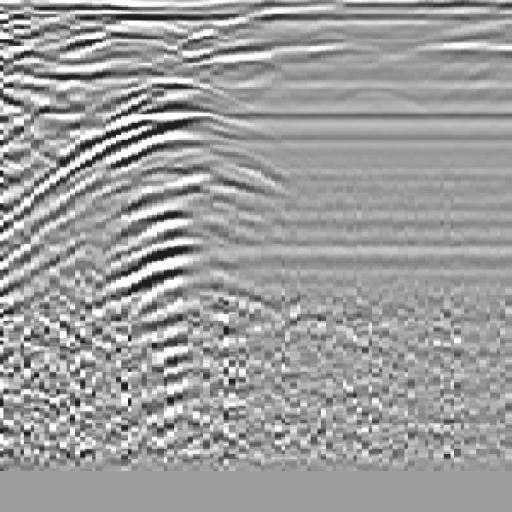metalic: (21, 79, 296, 347)
